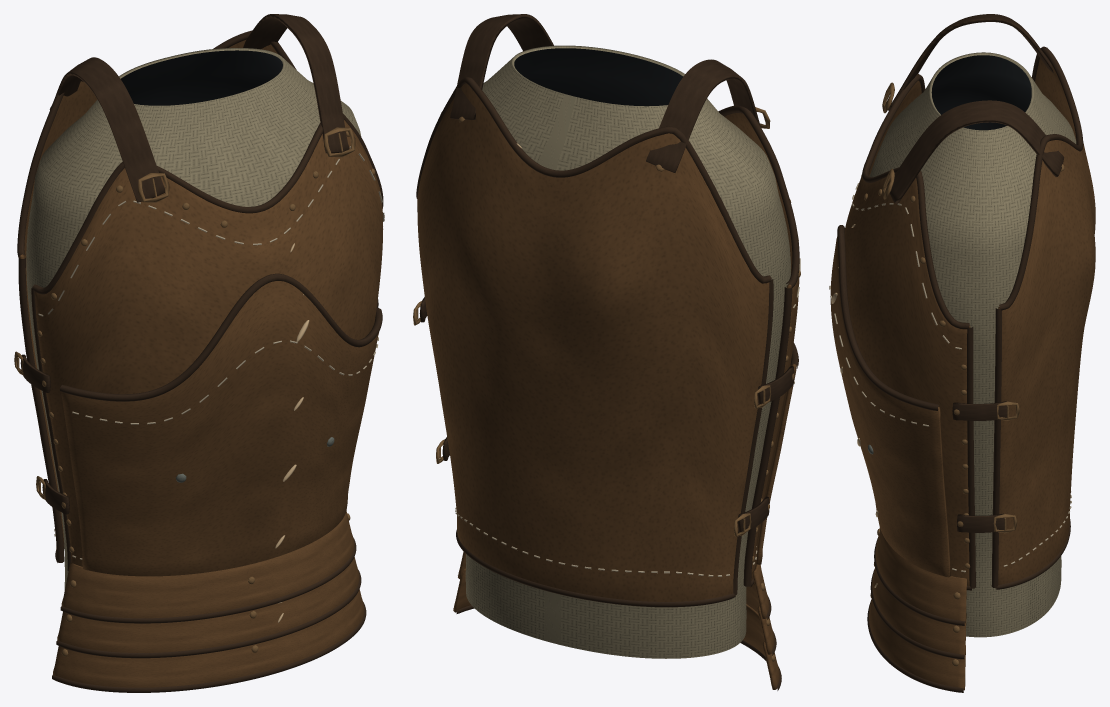
3 views of the same model, side by side, from view 1: azimuth 30°, elevation 25°; view 2: azimuth 150°, elevation 25°; view 3: azimuth 270°, elevation 25° (orthographic). The views are drawn at different scales.
Parts seen in each view (by area): view 1: tanned leather, quilted linen lining, oiled strap leather, recess and lining, aged alloy edge, waxed linen thread; view 2: tanned leather, quilted linen lining, oiled strap leather, recess and lining, aged alloy edge; view 3: tanned leather, quilted linen lining, oiled strap leather, recess and lining, aged alloy edge, waxed linen thread.
Part boxes in pixels (x1=…): tanned leather: x1=19, y1=40, x2=382, y2=687; quilted linen lining: x1=26, y1=48, x2=361, y2=589; oiled strap leather: x1=17, y1=14, x2=383, y2=692; recess and lining: x1=121, y1=50, x2=282, y2=105; aged alloy edge: x1=14, y1=127, x2=384, y2=656; waxed linen thread: x1=38, y1=146, x2=384, y2=559; tanned leather: x1=417, y1=83, x2=799, y2=689; quilted linen lining: x1=440, y1=45, x2=790, y2=658; oiled strap leather: x1=416, y1=14, x2=799, y2=690; recess and lining: x1=514, y1=48, x2=683, y2=106; aged alloy edge: x1=413, y1=107, x2=800, y2=661; tanned leather: x1=830, y1=58, x2=1095, y2=690; quilted linen lining: x1=869, y1=52, x2=1076, y2=637; oiled strap leather: x1=837, y1=14, x2=1083, y2=692; recess and lining: x1=931, y1=55, x2=1031, y2=130; aged alloy edge: x1=864, y1=82, x2=1064, y2=666; waxed linen thread: x1=829, y1=173, x2=1071, y2=572.
Bounding box in the file's own units: 0.3926 × 0.6466 × 0.2774.
9 materials, 6 textured.
